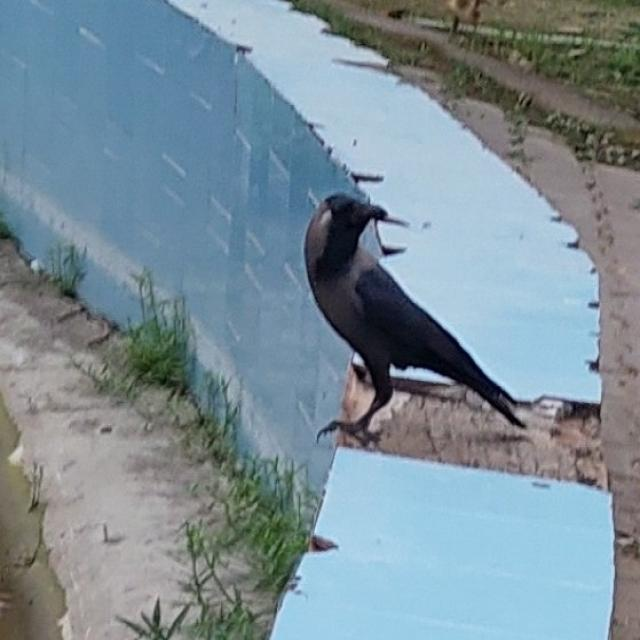bird: (301, 187, 548, 458)
